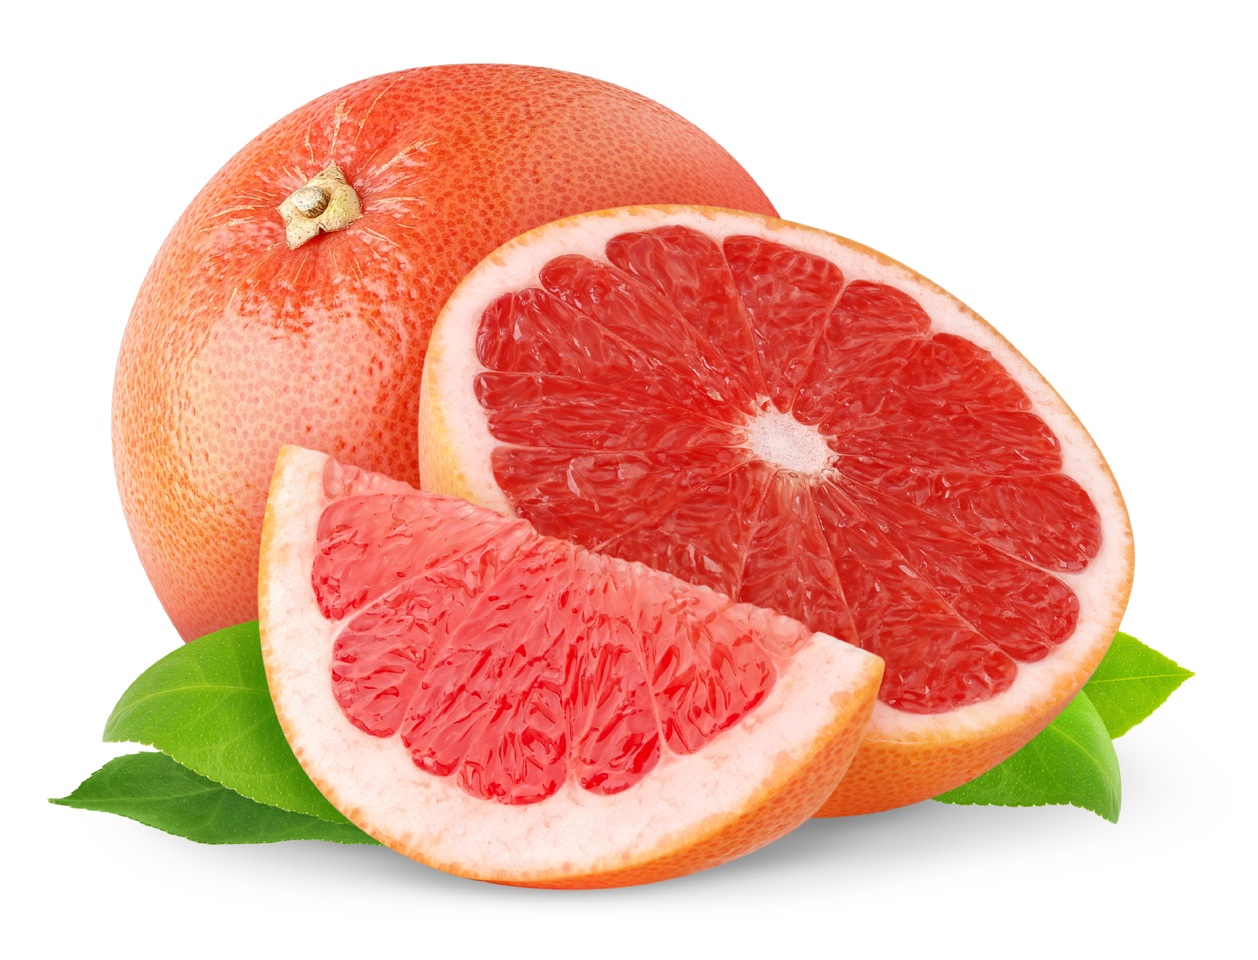grapefruit: (436, 218, 1133, 741), (129, 63, 723, 594), (264, 448, 782, 909)
